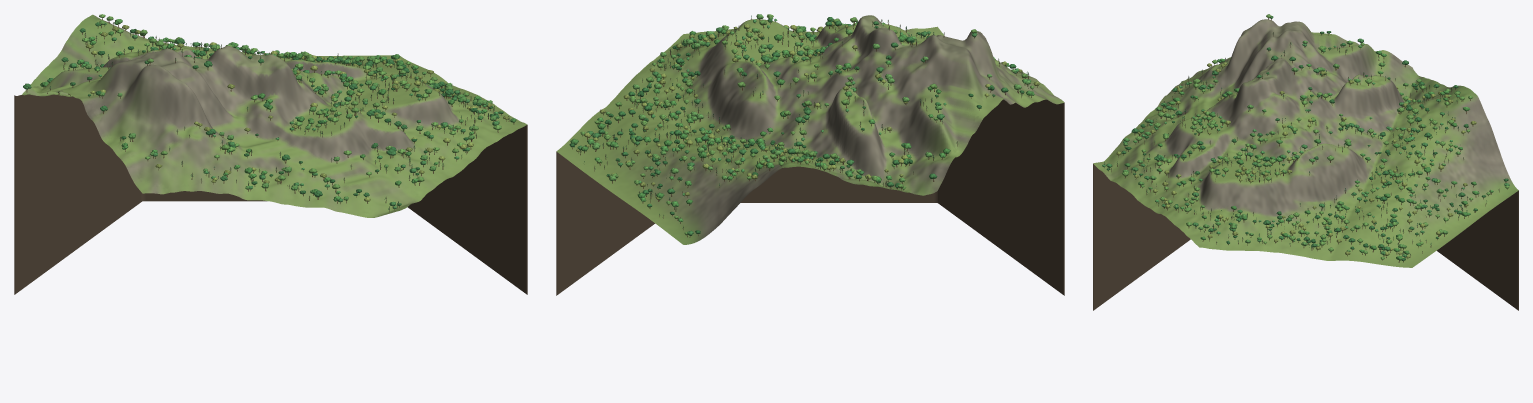
3 views of the same model, side by side, from view 1: azimuth 30°, elevation 25°; view 2: azimuth 150°, elevation 25°; view 3: azimuth 270°, elevation 25° (orthographic). The views are drawn at different scales.
Parts seen in each view (by area): view 1: terrain, hex_side_cut, broadleaf_canopy, trunks, conifer_canopy; view 2: terrain, hex_side_cut, broadleaf_canopy, trunks, conifer_canopy; view 3: terrain, hex_side_cut, broadleaf_canopy, trunks, conifer_canopy.
Part boxes in pixels (x1=…): terrain: x1=22, y1=14, x2=527, y2=217; hex_side_cut: x1=14, y1=94, x2=527, y2=294; broadleaf_canopy: x1=23, y1=14, x2=516, y2=208; trunks: x1=26, y1=18, x2=514, y2=211; conifer_canopy: x1=49, y1=23, x2=508, y2=209; terrain: x1=556, y1=15, x2=1064, y2=244; hex_side_cut: x1=556, y1=99, x2=1064, y2=295; broadleaf_canopy: x1=569, y1=14, x2=1039, y2=235; trunks: x1=572, y1=18, x2=1037, y2=237; conifer_canopy: x1=580, y1=15, x2=1029, y2=228; terrain: x1=1093, y1=19, x2=1518, y2=267; hex_side_cut: x1=1093, y1=163, x2=1518, y2=310; broadleaf_canopy: x1=1102, y1=14, x2=1509, y2=260; trunks: x1=1104, y1=18, x2=1507, y2=262; conifer_canopy: x1=1104, y1=32, x2=1498, y2=254.
Bounding box in the file's own units: 4330 × 3090 × 5000.
Materials: 6 (1 with a texture image).
